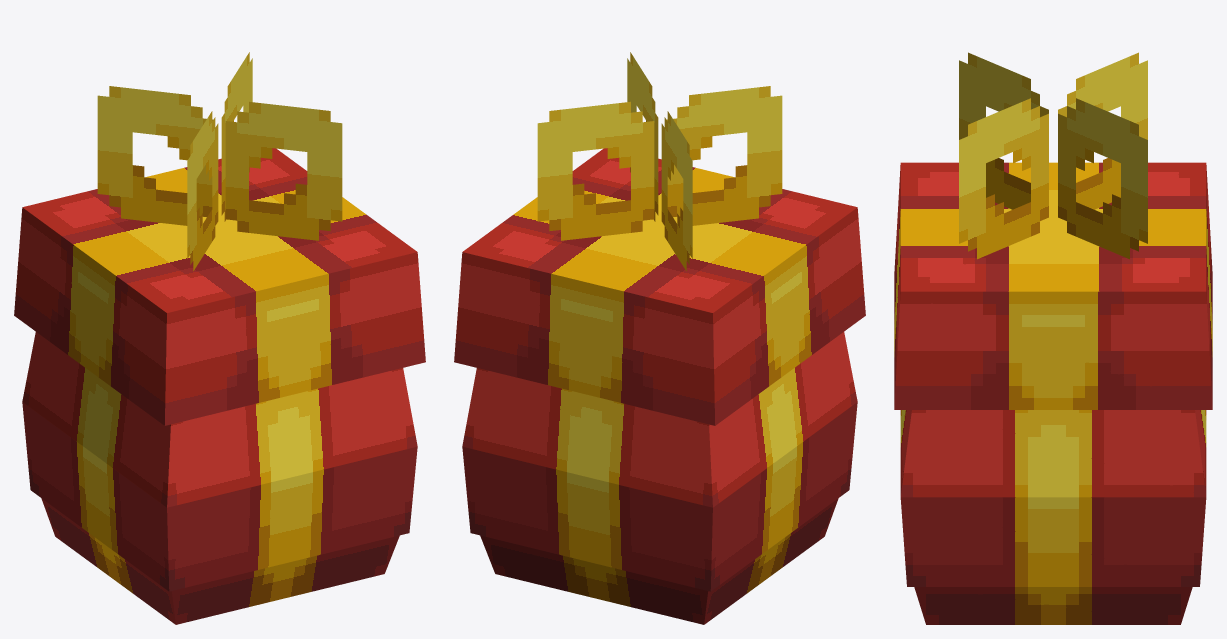
Rendered from present-egg.gltf.
The picture shows the model from 3 angles, left to right: view 1: azimuth 30°, elevation 25°; view 2: azimuth 150°, elevation 25°; view 3: azimuth 270°, elevation 25°; orthographic projection. The views are drawn at different scales.
Visible parts, largest first — view 1: cube (×5); view 2: cube (×5); view 3: cube (×5).
Boxes of the visible parts, <box> form: cube (×5): <box>14,52,425,624</box>; cube (×5): <box>454,52,865,624</box>; cube (×5): <box>894,52,1212,624</box>.
Bounding box in the file's own units: 0.7812 × 1.4 × 0.7812.
2 materials, 2 textured.
